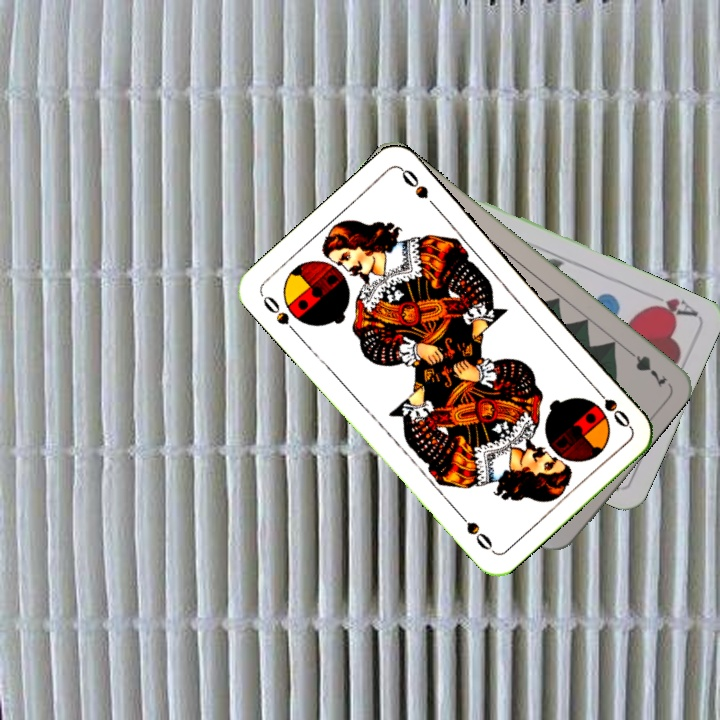G7: (620, 343, 671, 391)
HA: (642, 288, 700, 322)
SO: (257, 290, 303, 339), (589, 382, 634, 430)
